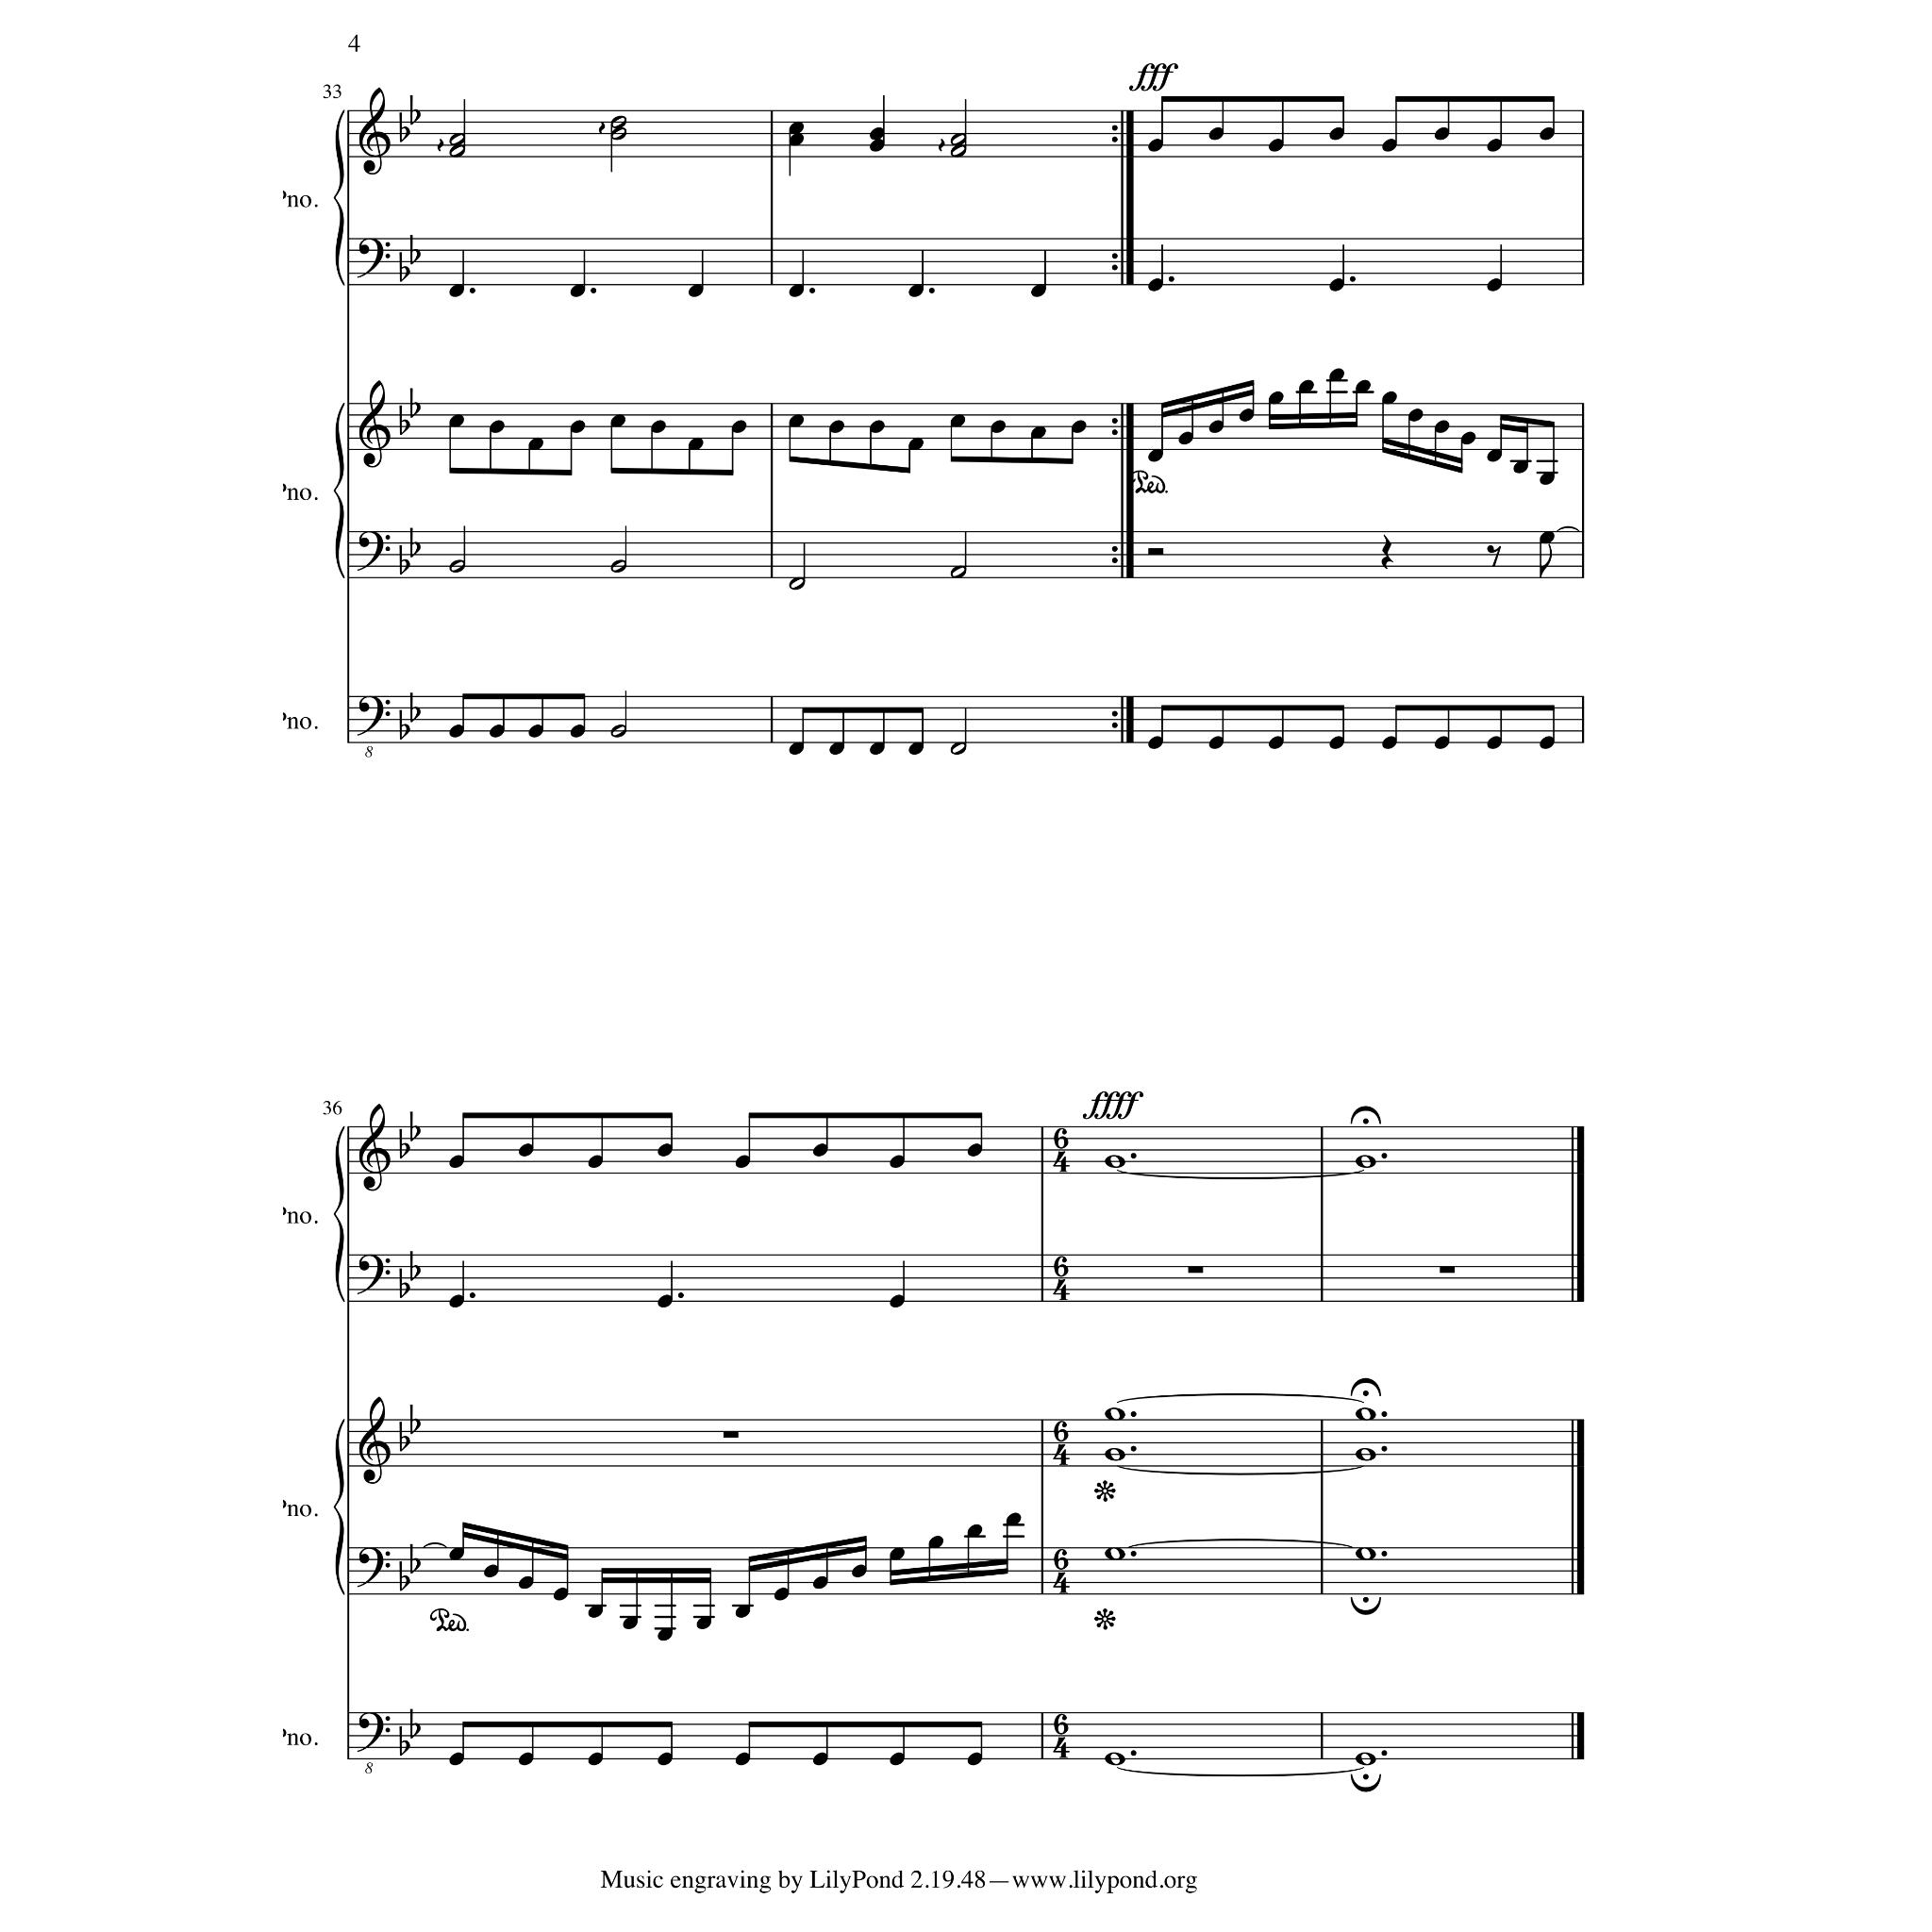brace: (332, 402, 345, 579), (332, 109, 345, 287), (332, 1419, 345, 1596), (332, 1126, 345, 1302)
fClef: (357, 238, 391, 279), (357, 530, 391, 572), (357, 1711, 391, 1753), (357, 696, 391, 736), (357, 1255, 391, 1294), (357, 1547, 391, 1587)
flag8thDown: (1540, 544, 1553, 578)
gClef: (358, 87, 391, 175), (358, 380, 391, 469), (358, 1104, 391, 1192), (358, 1396, 391, 1485)
noteheadBlack: (1147, 138, 1164, 153), (1381, 138, 1398, 153), (609, 413, 626, 428), (687, 283, 704, 298), (908, 283, 924, 298), (868, 138, 885, 153), (949, 413, 966, 428), (1268, 138, 1283, 153), (1540, 530, 1555, 545), (1487, 138, 1502, 153), (570, 283, 585, 298), (449, 283, 464, 298), (449, 413, 464, 428), (1030, 283, 1045, 298), (789, 283, 804, 298), (789, 413, 804, 428), (553, 1587, 568, 1602), (774, 1587, 789, 1602), (1238, 408, 1255, 422), (1207, 127, 1224, 141), (1207, 421, 1224, 434), (1207, 737, 1224, 750), (1328, 127, 1345, 141), (1298, 380, 1315, 393), (1328, 278, 1345, 291), (1328, 369, 1345, 382), (1328, 737, 1345, 750), (1147, 737, 1164, 750), (1147, 449, 1164, 462), (1070, 421, 1087, 434), (1147, 278, 1164, 291), (1177, 432, 1194, 445), (1355, 380, 1372, 393), (1381, 391, 1398, 405), (1381, 737, 1398, 750), (687, 438, 704, 451), (908, 438, 924, 451), (908, 741, 924, 755), (868, 127, 885, 141), (868, 421, 885, 434), (868, 741, 885, 755), (730, 421, 747, 434), (966, 1753, 983, 1766), (966, 1524, 983, 1538), (966, 1143, 983, 1157), (517, 1753, 534, 1766), (517, 1576, 534, 1590), (517, 1143, 534, 1157), (483, 1565, 500, 1578), (587, 1753, 604, 1766), (587, 1605, 604, 1618), (587, 1156, 604, 1169), (811, 1753, 828, 1766), (811, 1576, 828, 1590), (811, 1143, 828, 1157), (734, 1753, 751, 1766), (734, 1605, 751, 1618), (734, 1156, 751, 1169), (889, 1753, 906, 1766), (889, 1547, 906, 1560), (889, 1294, 906, 1307), (889, 1156, 906, 1169), (851, 1565, 868, 1578), (657, 1753, 674, 1766), (657, 1628, 674, 1641), (657, 1294, 674, 1307), (657, 1143, 674, 1157), (1268, 391, 1283, 405), (1268, 737, 1283, 750), (1540, 737, 1555, 750), (1513, 460, 1528, 474), (1540, 127, 1555, 141), (1540, 473, 1555, 486), (1407, 408, 1423, 422), (1434, 127, 1449, 141), (1434, 421, 1449, 434), (1487, 278, 1502, 291), (1487, 449, 1502, 462), (1487, 737, 1502, 750), (1434, 737, 1449, 750), (1460, 432, 1475, 445), (570, 421, 585, 434), (570, 724, 585, 738), (489, 421, 504, 434), (489, 724, 504, 738), (528, 438, 543, 451), (528, 724, 543, 738), (651, 421, 666, 434), (1030, 426, 1045, 440), (449, 724, 464, 738), (829, 421, 844, 434), (829, 741, 844, 755), (991, 421, 1006, 434), (789, 133, 804, 146), (789, 122, 804, 135), (789, 741, 804, 755), (928, 1536, 943, 1549), (1006, 1512, 1021, 1525), (449, 1753, 464, 1766), (449, 1547, 464, 1560), (449, 1294, 464, 1307), (449, 1156, 464, 1169), (623, 1617, 638, 1630), (696, 1617, 711, 1630)
noteheadHalf: (609, 127, 626, 141), (609, 116, 626, 129), (609, 560, 626, 574), (609, 724, 626, 738), (448, 145, 465, 158), (448, 133, 465, 146), (448, 560, 465, 574), (950, 145, 967, 158), (950, 133, 967, 146), (950, 566, 967, 579), (950, 741, 967, 755), (789, 577, 806, 591)
noteheadWhole: (1104, 1547, 1126, 1560), (1104, 1407, 1126, 1421), (1104, 1448, 1126, 1461), (1104, 1156, 1126, 1169), (1104, 1753, 1126, 1766), (1355, 1753, 1375, 1766), (1355, 1547, 1375, 1560), (1355, 1407, 1375, 1421), (1355, 1448, 1375, 1461), (1355, 1156, 1375, 1169)
rest8th: (1487, 545, 1502, 568)
restHalf: (1147, 548, 1164, 556)
restQuarter: (1380, 534, 1393, 570)
restWhole: (1187, 1266, 1204, 1274), (1440, 1266, 1455, 1274), (723, 1431, 738, 1439)
